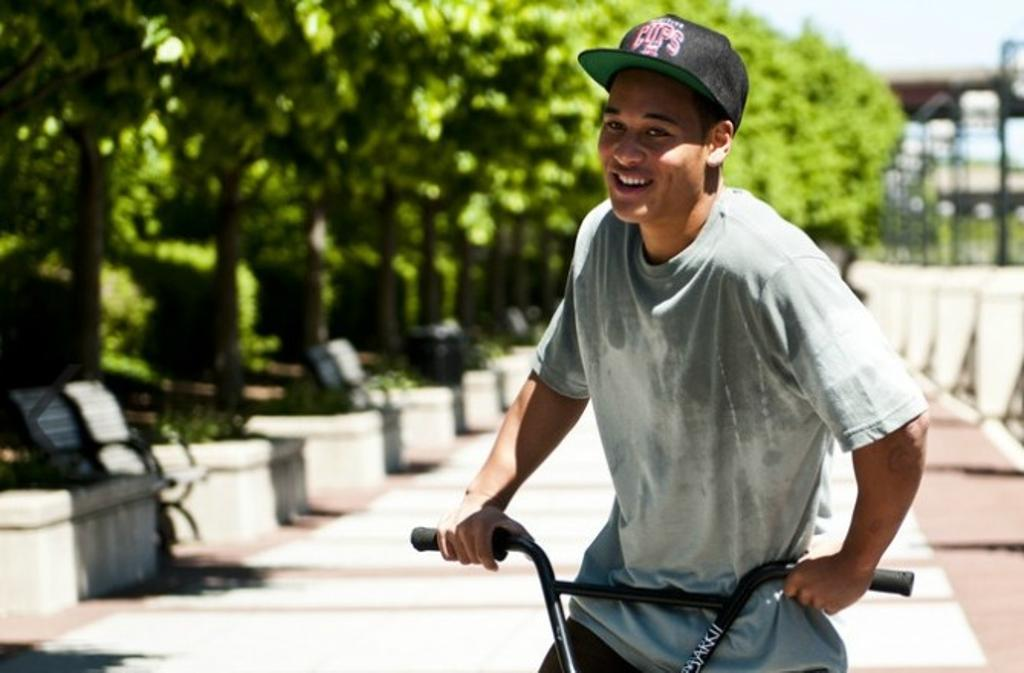face: (598, 74, 700, 222)
